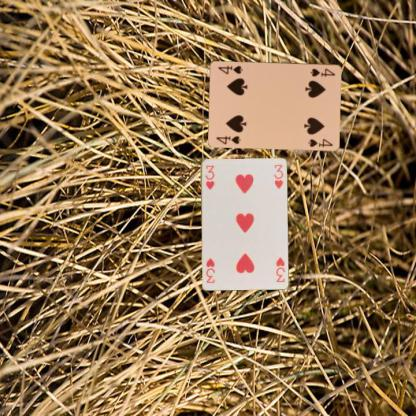3h: (273, 255, 286, 283), (203, 163, 215, 191)
4s: (308, 66, 336, 78), (214, 133, 242, 145)
